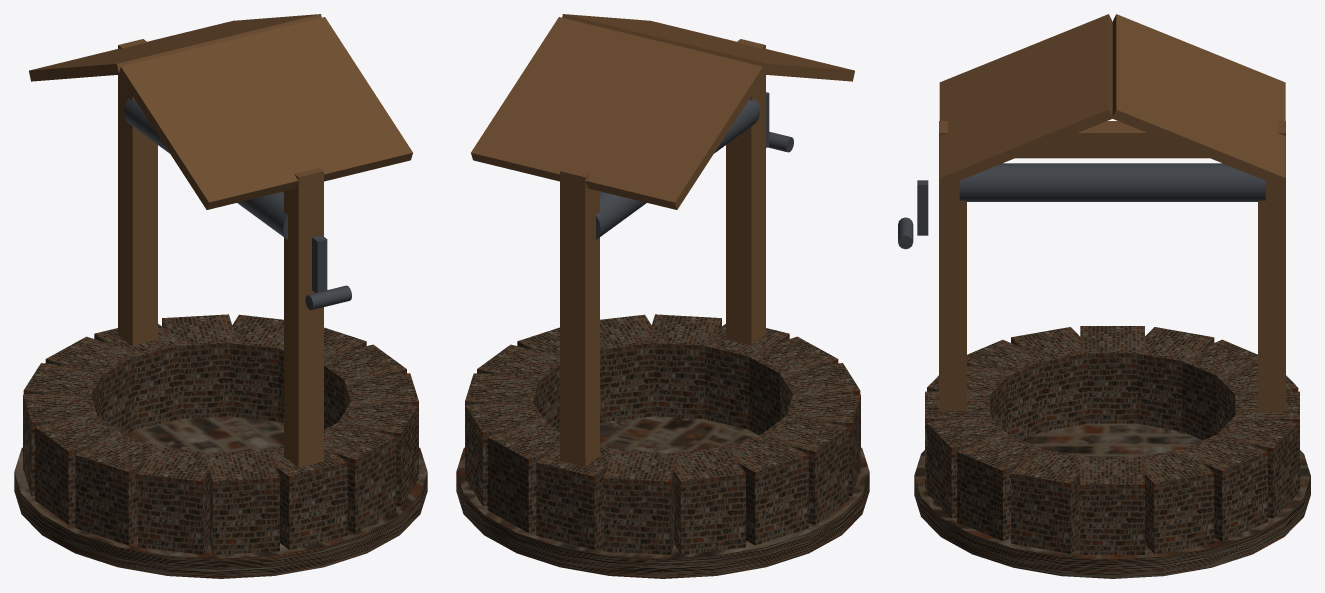
The model's file is well.glb.
3 renders of one model, left to right at view 1: azimuth 30°, elevation 25°; view 2: azimuth 150°, elevation 25°; view 3: azimuth 270°, elevation 25°, orthographic. The views are drawn at different scales.
Visible parts, largest first — view 1: Mesh_Roof_R, Mesh_Base, Mesh_Post_R, Mesh_Post_L, Mesh_Curb_5, Mesh_Curb_6, Mesh_Curb_7, Mesh_Curb_4, Mesh_Curb_13, Mesh_Curb_3, Mesh_Curb_14, Mesh_Roof_L (+13 smaller); view 2: Mesh_Roof_L, Mesh_Base, Mesh_Post_L, Mesh_Post_R, Mesh_Curb_11, Mesh_Curb_10, Mesh_Curb_9, Mesh_Curb_12, Mesh_Curb_3, Mesh_Curb_13, Mesh_Curb_2, Mesh_Roof_R (+11 smaller); view 3: Mesh_Roof_L, Mesh_Roof_R, Mesh_Base, Mesh_Windlass, Mesh_Curb_1, Mesh_Curb_15, Mesh_Curb_0, Mesh_Post_R, Mesh_Post_L, Mesh_Curb_14, Mesh_Curb_2, Mesh_Curb_8 (+12 smaller).
Boxes of the visible parts, x1=… form: Mesh_Roof_R: x1=119, y1=17, x2=412, y2=209; Mesh_Base: x1=14, y1=416, x2=427, y2=578; Mesh_Post_R: x1=284, y1=192, x2=323, y2=467; Mesh_Post_L: x1=118, y1=75, x2=157, y2=345; Mesh_Curb_5: x1=204, y1=450, x2=279, y2=554; Mesh_Curb_6: x1=138, y1=446, x2=211, y2=554; Mesh_Curb_7: x1=75, y1=432, x2=161, y2=545; Mesh_Curb_4: x1=264, y1=445, x2=347, y2=549; Mesh_Curb_13: x1=162, y1=314, x2=237, y2=418; Mesh_Curb_3: x1=324, y1=420, x2=396, y2=532; Mesh_Curb_14: x1=222, y1=314, x2=283, y2=421; Mesh_Roof_L: x1=29, y1=14, x2=321, y2=81; Mesh_Roof_L: x1=471, y1=17, x2=765, y2=209; Mesh_Base: x1=456, y1=416, x2=869, y2=578; Mesh_Post_L: x1=560, y1=192, x2=599, y2=467; Mesh_Post_R: x1=726, y1=75, x2=765, y2=345; Mesh_Curb_11: x1=604, y1=450, x2=679, y2=554; Mesh_Curb_10: x1=672, y1=446, x2=745, y2=554; Mesh_Curb_9: x1=722, y1=432, x2=808, y2=545; Mesh_Curb_12: x1=536, y1=445, x2=619, y2=549; Mesh_Curb_3: x1=646, y1=314, x2=721, y2=418; Mesh_Curb_13: x1=487, y1=420, x2=559, y2=532; Mesh_Curb_2: x1=600, y1=314, x2=659, y2=421; Mesh_Roof_R: x1=562, y1=14, x2=854, y2=81; Mesh_Roof_L: x1=1112, y1=14, x2=1285, y2=186; Mesh_Roof_R: x1=939, y1=14, x2=1112, y2=186; Mesh_Base: x1=914, y1=423, x2=1310, y2=578; Mesh_Windlass: x1=959, y1=163, x2=1265, y2=201; Mesh_Curb_1: x1=1011, y1=449, x2=1087, y2=553; Mesh_Curb_15: x1=1137, y1=449, x2=1214, y2=553; Mesh_Curb_0: x1=1080, y1=457, x2=1144, y2=554; Mesh_Post_R: x1=939, y1=157, x2=966, y2=411; Mesh_Post_L: x1=1258, y1=158, x2=1285, y2=411; Mesh_Curb_14: x1=1177, y1=432, x2=1267, y2=541; Mesh_Curb_2: x1=957, y1=432, x2=1047, y2=541; Mesh_Curb_8: x1=1080, y1=326, x2=1144, y2=423.
Bounding box in the file's own units: 1.84 × 2.22 × 1.92.
3 materials, 1 textured.
